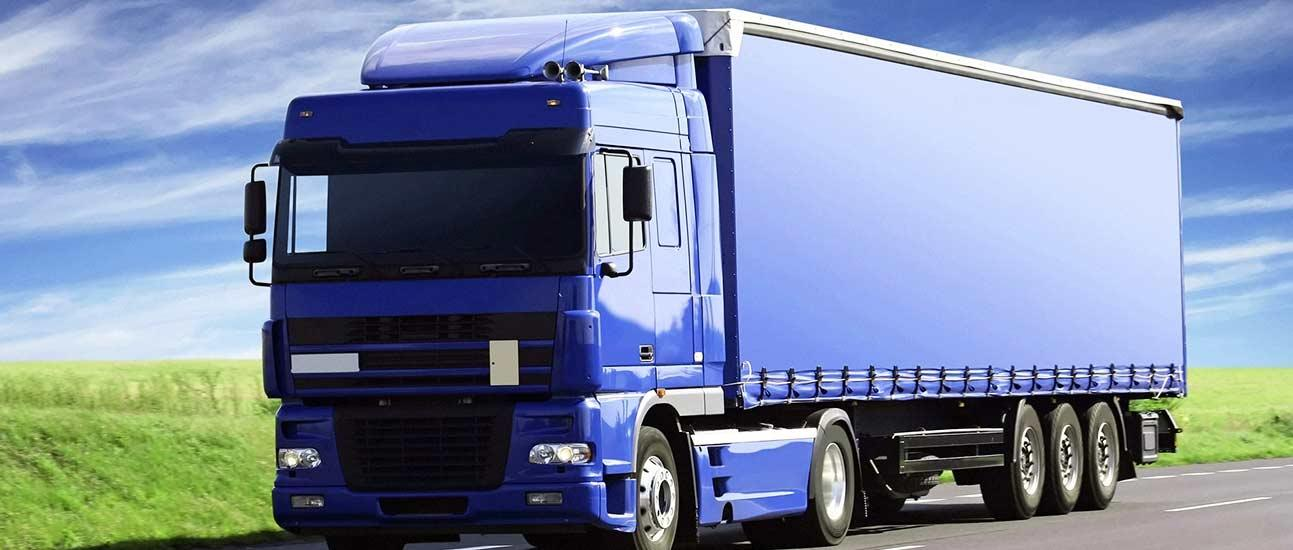truck: (244, 8, 1187, 550)
